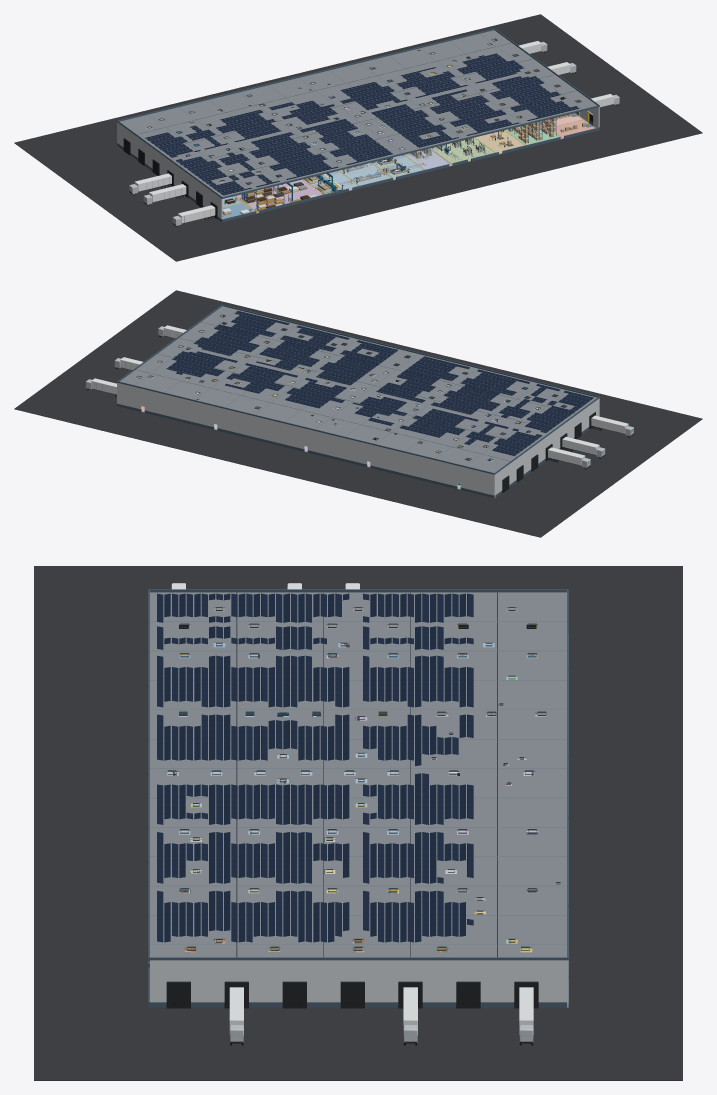
File: core.glb
3 views of the same model, one above another, from view 1: azimuth 30°, elevation 25°; view 2: azimuth 150°, elevation 25°; view 3: azimuth 270°, elevation 25° (orthographic). The views are drawn at different scales.
Parts seen in each view (by area): view 1: Майданчик і підлога, ROOF-DECK, PV-ROOF, Стіни, Ферми, Z-ASM, Z-SHEETS, Z-PACK, TRUCK-IN-2, TRUCK-IN-1, TRUCK-IN-3, Z-EB (+2 smaller); view 2: Майданчик і підлога, ROOF-DECK, PV-ROOF, Стіни, Ферми, TRUCK-IN-2, TRUCK-IN-3, TRUCK-IN-1; view 3: Майданчик і підлога, ROOF-DECK, PV-ROOF, Стіни, Ферми, TRUCK-OUT-2, TRUCK-OUT-3, TRUCK-OUT-1.
Boxes of the visible parts, box(x1,y1,x2,y2) form: Майданчик і підлога: box(14, 14, 702, 261); ROOF-DECK: box(117, 28, 599, 198); PV-ROOF: box(145, 53, 579, 195); Стіни: box(117, 30, 599, 222); Ферми: box(137, 33, 583, 192); Z-ASM: box(426, 131, 494, 163); Z-SHEETS: box(220, 163, 323, 212); Z-PACK: box(461, 126, 524, 153); TRUCK-IN-2: box(143, 184, 186, 206); TRUCK-IN-1: box(172, 205, 215, 227); TRUCK-IN-3: box(129, 173, 171, 195); Z-EB: box(305, 137, 390, 185); Майданчик і підлога: box(14, 290, 702, 537); ROOF-DECK: box(117, 304, 599, 474); PV-ROOF: box(166, 311, 593, 456); Стіни: box(117, 306, 599, 498); Ферми: box(134, 309, 575, 465); TRUCK-IN-2: box(562, 436, 605, 458); TRUCK-IN-3: box(548, 447, 590, 469); TRUCK-IN-1: box(591, 415, 634, 437); Майданчик і підлога: box(34, 566, 682, 1080); ROOF-DECK: box(148, 589, 568, 960); PV-ROOF: box(157, 593, 473, 942); Стіни: box(148, 591, 568, 1007); Ферми: box(150, 592, 566, 957); TRUCK-OUT-2: box(403, 987, 417, 1045); TRUCK-OUT-3: box(519, 987, 533, 1045); TRUCK-OUT-1: box(229, 987, 243, 1045).
Size of the model in its own units: 210 by 9.65 by 112.
